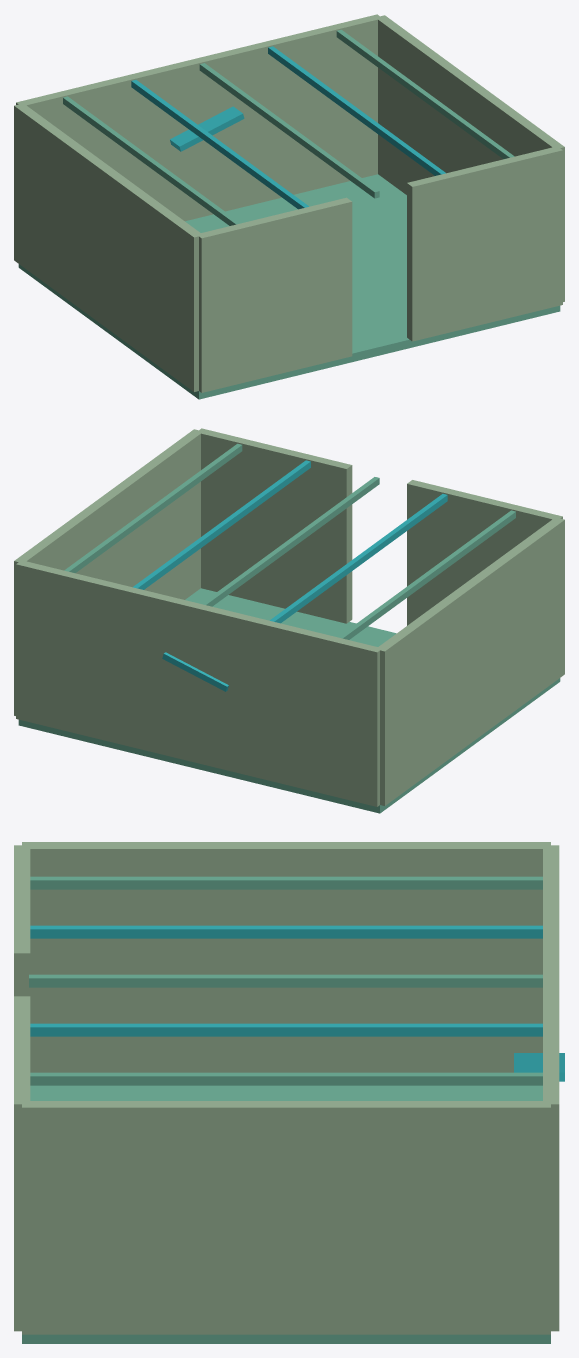
Rendered from bridge_dock.glb.
The picture shows the model from 3 angles, top to bottom: view 1: azimuth 30°, elevation 25°; view 2: azimuth 150°, elevation 25°; view 3: azimuth 270°, elevation 25°; orthographic projection. The views are drawn at different scales.
Parts seen in each view (by area): view 1: wall_north, wall_west, wall_south_right, wall_south_left, wall_east, floor, ceiling_beam_0, ceiling_beam_2, ceiling_beam_-1, ceiling_beam_1, ceiling_beam_-2, purpose_crystal_dock; view 2: wall_north, wall_west, wall_south_right, wall_east, wall_south_left, floor, ceiling_beam_0, ceiling_beam_2, ceiling_beam_-1, ceiling_beam_1, ceiling_beam_-2, purpose_crystal_dock; view 3: wall_east, wall_west, floor, ceiling_beam_0, ceiling_beam_-2, ceiling_beam_-1, ceiling_beam_1, ceiling_beam_2, wall_north, wall_south_right, wall_south_left, purpose_crystal_dock.
Boxes of the visible parts, x1,y1,x2,y2 form: wall_north: (16,14,382,221); wall_west: (14,104,203,391); wall_south_right: (407,146,562,341); wall_south_left: (199,197,352,392); wall_east: (377,15,564,301); floor: (18,174,560,399); ceiling_beam_0: (199,63,379,198); ceiling_beam_2: (336,29,514,159); ceiling_beam_-1: (131,80,308,209); ceiling_beam_1: (268,46,445,175); ceiling_beam_-2: (63,96,240,225); purpose_crystal_dock: (170,106,244,151); wall_north: (16,561,382,806); wall_west: (376,517,564,805); wall_south_right: (197,428,352,623); wall_east: (14,429,203,715); wall_south_left: (407,480,562,625); floor: (18,588,560,813); ceiling_beam_0: (201,477,379,606); ceiling_beam_2: (64,443,242,573); ceiling_beam_-1: (270,494,447,623); ceiling_beam_1: (133,460,310,589); ceiling_beam_-2: (338,510,515,639); purpose_crystal_dock: (162,652,228,691); wall_east: (22,1101,550,1334); wall_west: (22,842,550,1072); floor: (22,1085,550,1343); ceiling_beam_0: (29,974,542,987); ceiling_beam_-2: (30,876,542,889); ceiling_beam_-1: (30,925,542,938); ceiling_beam_1: (30,1023,542,1036); ceiling_beam_2: (30,1072,542,1085); wall_north: (543,845,559,1331); wall_south_right: (14,996,30,1331); wall_south_left: (14,845,30,996); purpose_crystal_dock: (514,1053,564,1081).
Size of what is drawn, in the model's own units: 13.55 by 5.7 by 11.88.
